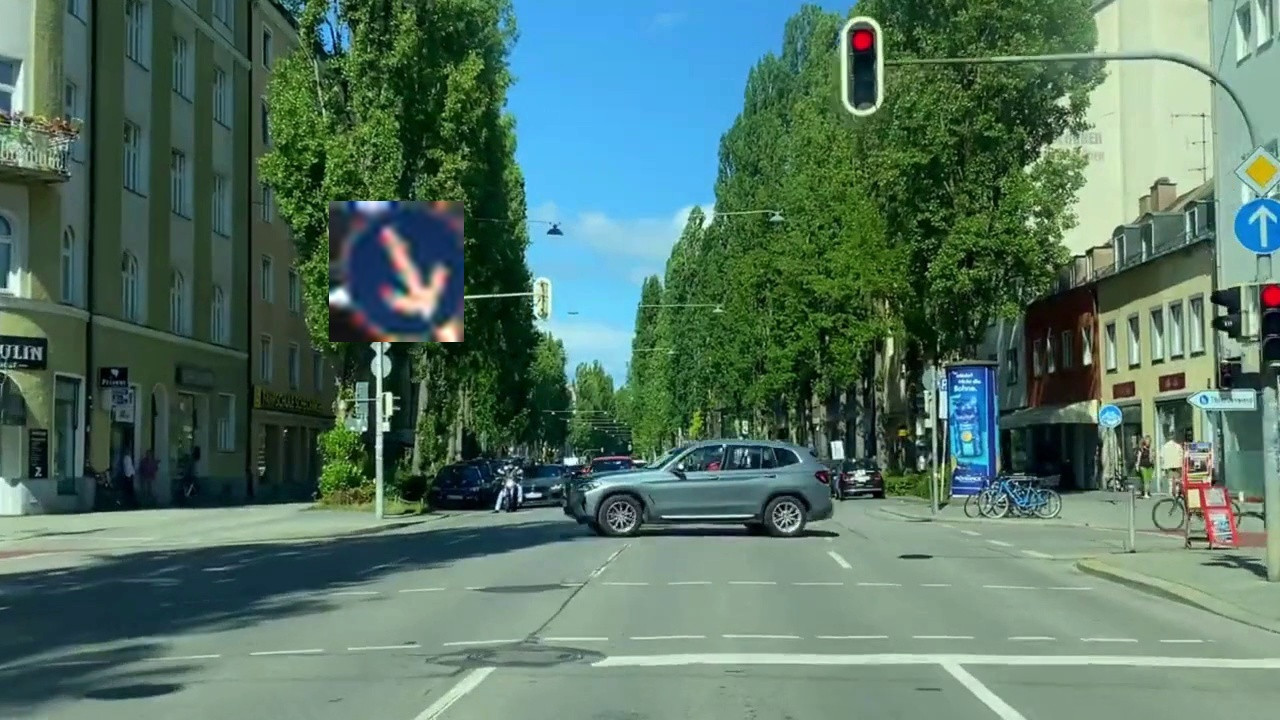Keep right: (329, 201, 464, 342)
